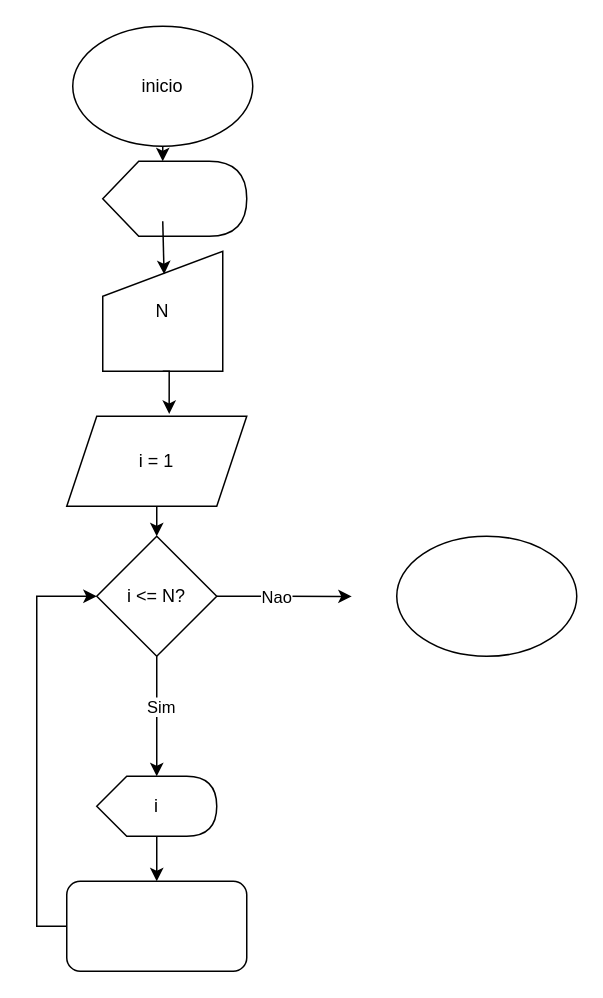
The diagram is 603 pixels wide and 998 high, and some of its shapes have lost their labels. Each missing label, with the centre of its shape:
fim: point 486,595
i = i + 1: point 156,925
informe um numero inteiro: point 174,198
